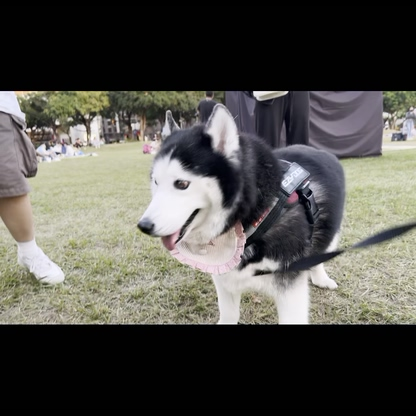husky: (133, 100, 351, 322)
